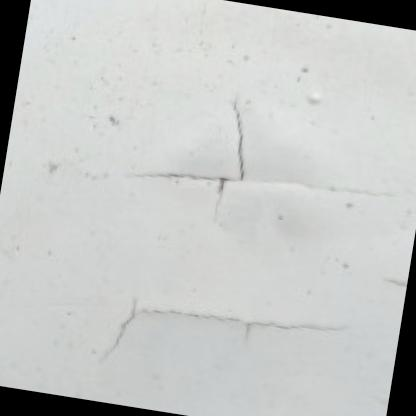Crack: (102, 72, 412, 256), (81, 273, 370, 415), (368, 266, 406, 314)
